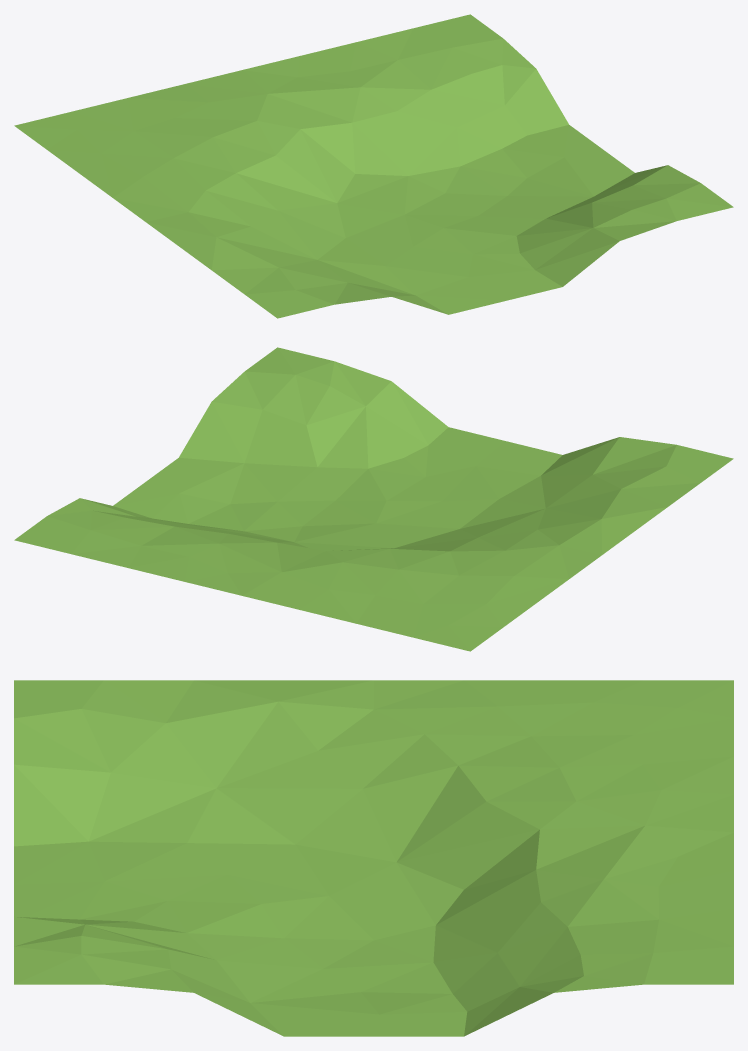
The model's file is MT_River_S_b_01_LOD.fbx.
3 views of the same model, one above another, from view 1: azimuth 30°, elevation 25°; view 2: azimuth 150°, elevation 25°; view 3: azimuth 270°, elevation 25° (orthographic). The views are drawn at different scales.
Parts seen in each view (by area): view 1: MT_River_S_b_01_LOD0; view 2: MT_River_S_b_01_LOD0; view 3: MT_River_S_b_01_LOD0.
Part boxes in pixels (box(x1,y1,x2,y2)): MT_River_S_b_01_LOD0: box(14, 14, 733, 318); MT_River_S_b_01_LOD0: box(14, 347, 733, 651); MT_River_S_b_01_LOD0: box(14, 680, 733, 1036).
Size of what is drawn, in the model's own units: 2500 by 244 by 2500.
